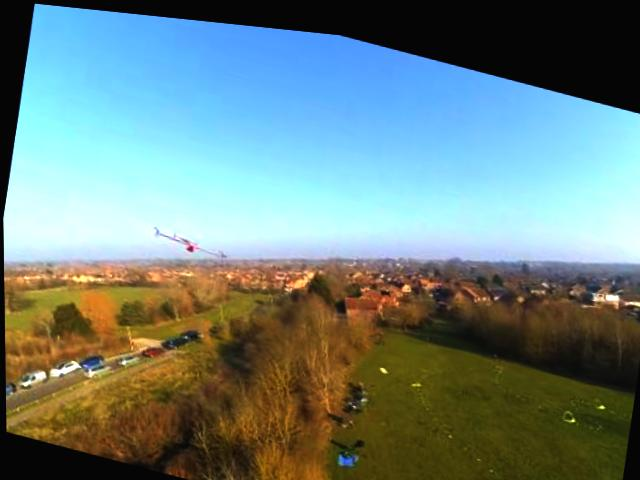uav: (145, 217, 233, 270)
